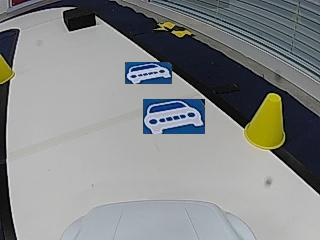block: (62, 7, 95, 31)
cone: (244, 93, 286, 150), (0, 51, 16, 85)
